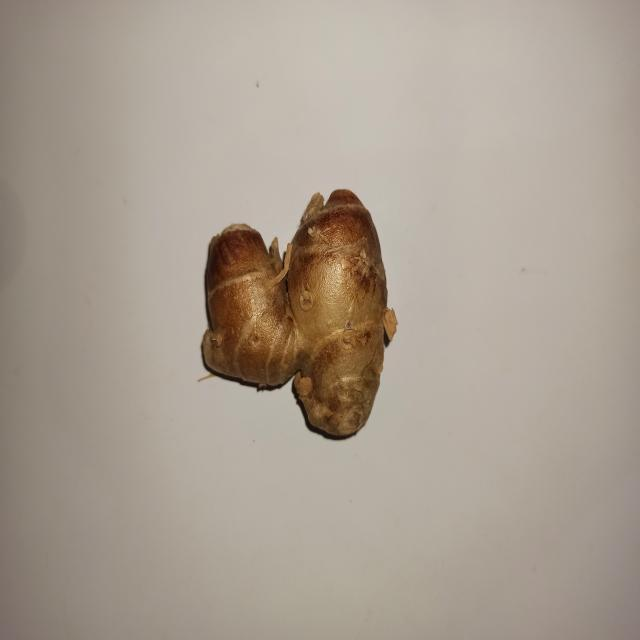ginger: (207, 178, 389, 432)
